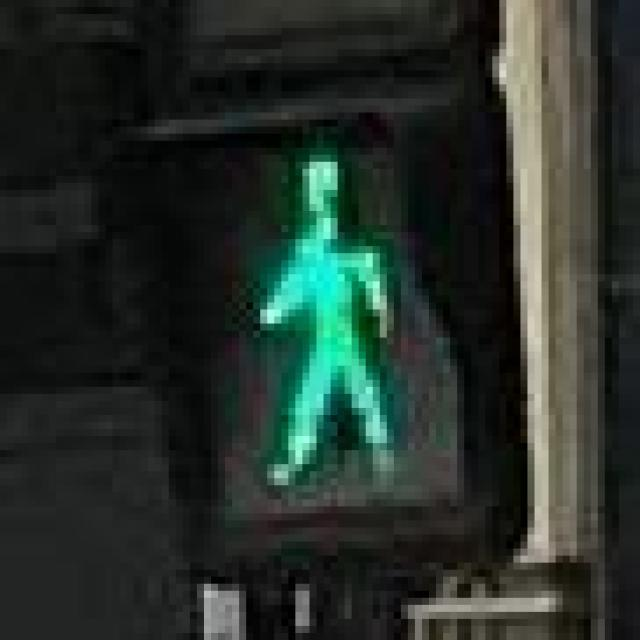geen-crossing: (148, 99, 472, 528)
